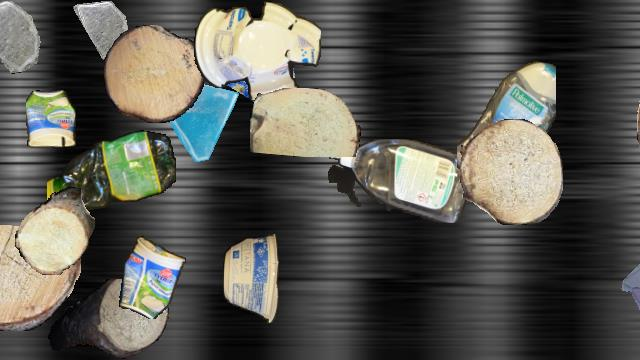glass: (204, 30, 298, 124), (158, 75, 248, 165), (73, 1, 131, 59), (0, 1, 41, 73), (619, 238, 640, 310), (624, 285, 640, 359)
plastic: (457, 57, 555, 191), (194, 1, 320, 101), (328, 139, 474, 223), (47, 126, 175, 218), (117, 236, 187, 318), (223, 234, 279, 322), (26, 90, 76, 148)
wood: (460, 119, 562, 225), (104, 25, 204, 123), (47, 279, 169, 359), (0, 225, 81, 331), (250, 88, 360, 156), (15, 187, 95, 275), (637, 61, 640, 193)
